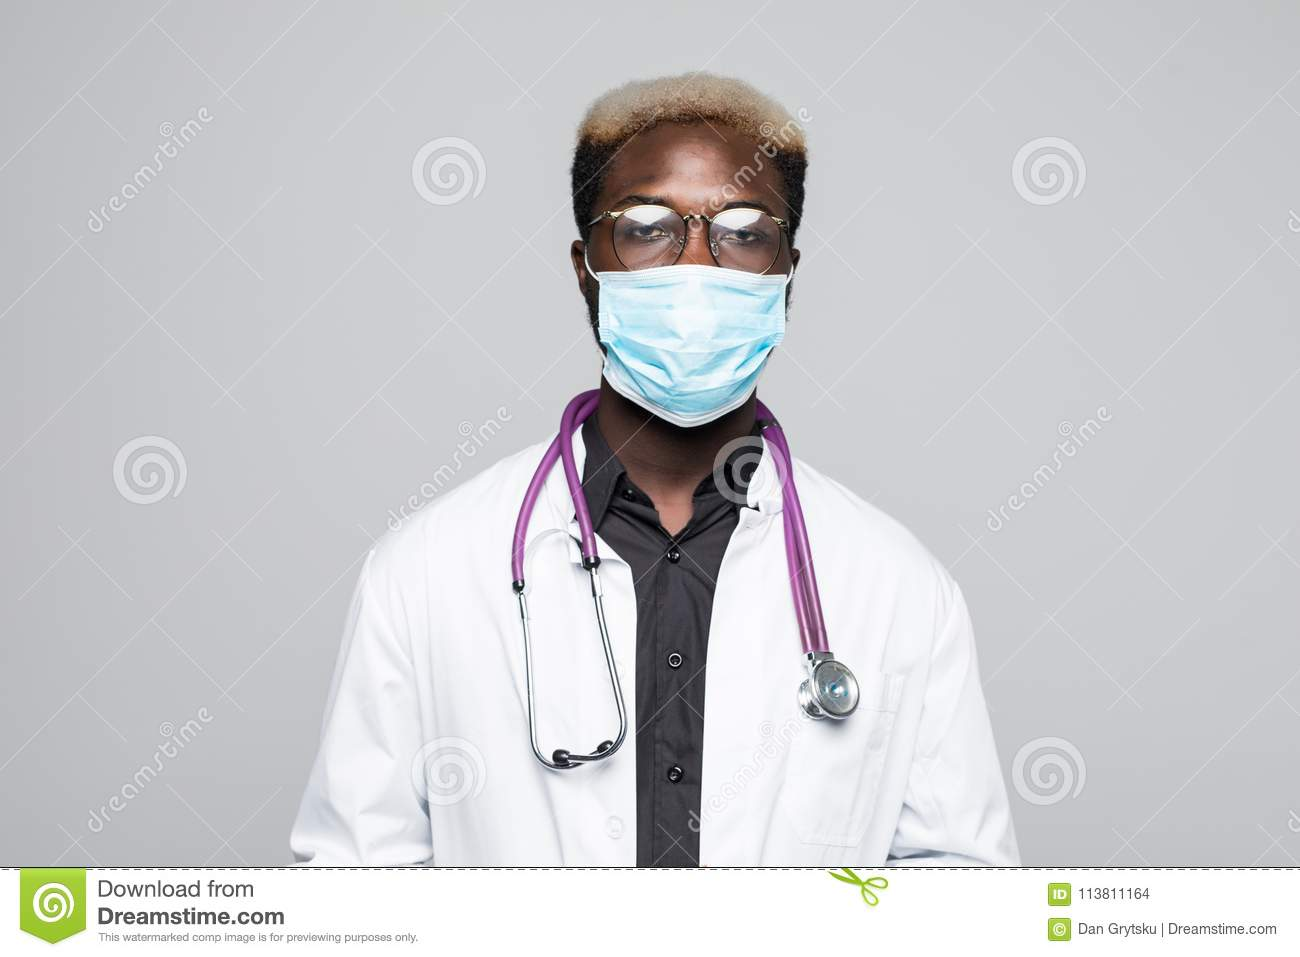mask: (589, 267, 800, 429)
